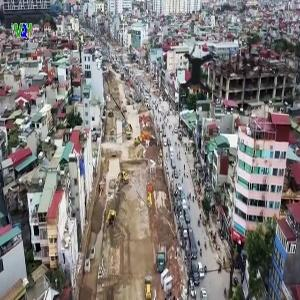drone: (151, 23, 247, 119)
